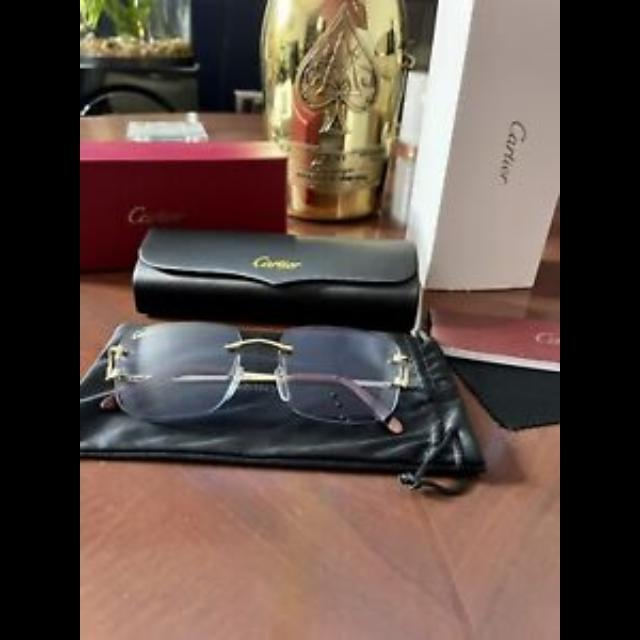glasses: (100, 323, 408, 435)
